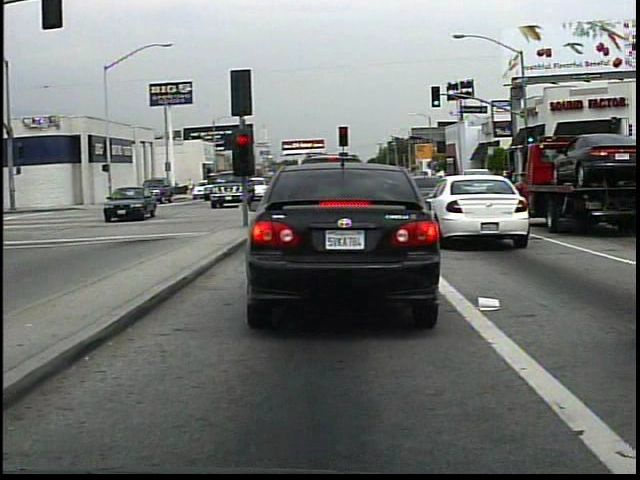person: (187, 175, 196, 201)
